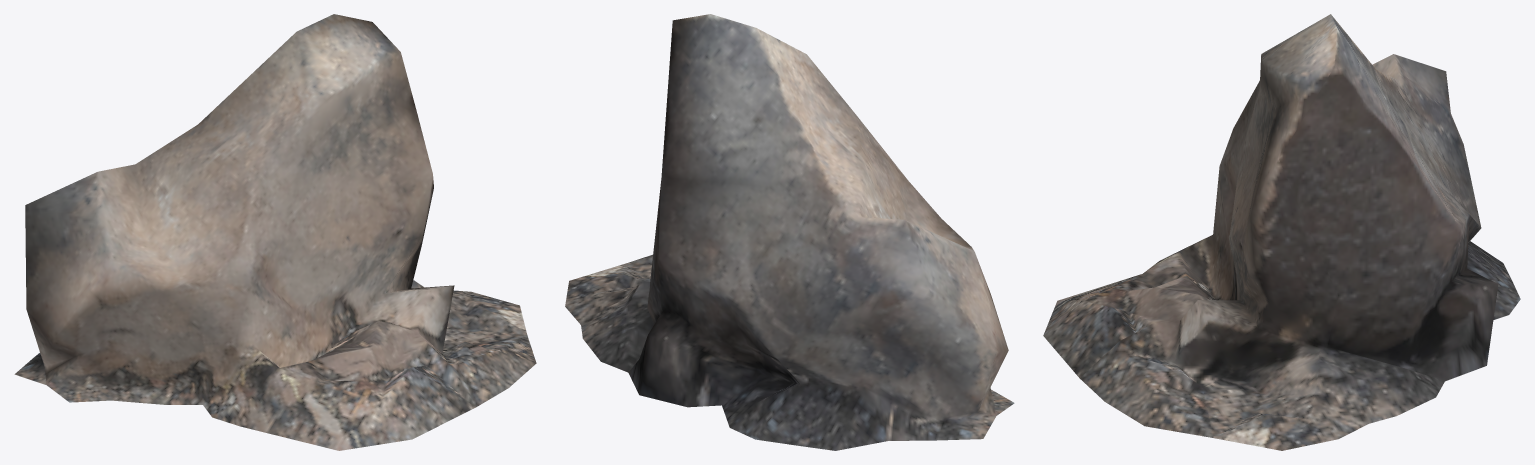
Rendered from SM_Campfire_01_01_rock.fbx.
3 renders of one model, left to right at view 1: azimuth 30°, elevation 25°; view 2: azimuth 150°, elevation 25°; view 3: azimuth 270°, elevation 25°, orthographic. The views are drawn at different scales.
Visible parts, largest first — view 1: sm_Campfire_01_01_rock_LOD0; view 2: sm_Campfire_01_01_rock_LOD0; view 3: sm_Campfire_01_01_rock_LOD0.
Part boxes in pixels (x1,y1,x2,y2): sm_Campfire_01_01_rock_LOD0: (14,14,536,450); sm_Campfire_01_01_rock_LOD0: (565,14,1014,450); sm_Campfire_01_01_rock_LOD0: (1043,14,1520,450).
Size of the model in its own units: 23.8 by 27.99 by 18.54.
